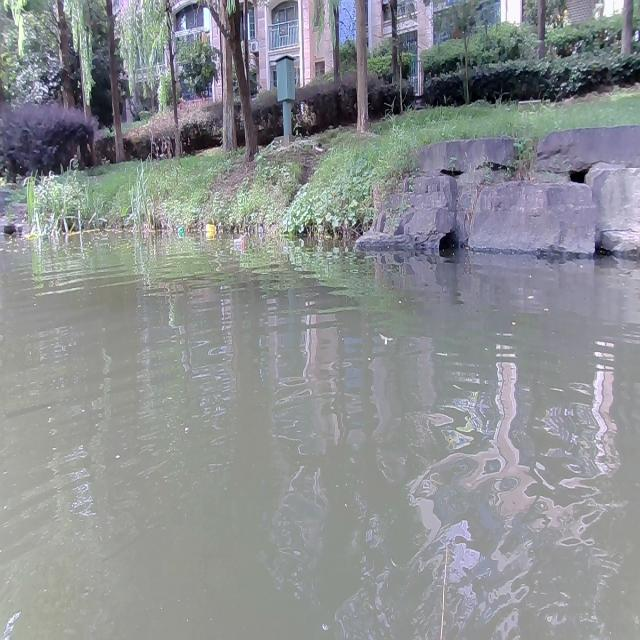bottle: (204, 224, 218, 236), (232, 236, 246, 246), (176, 225, 184, 234)
